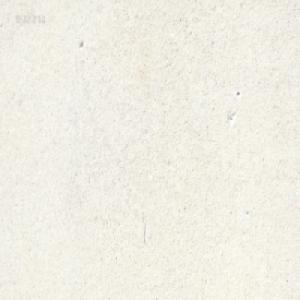Wrench: (149, 0, 156, 4)
